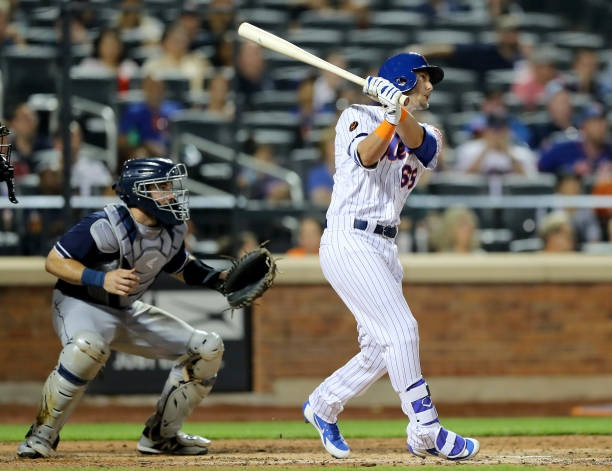bita: (239, 21, 400, 102)
